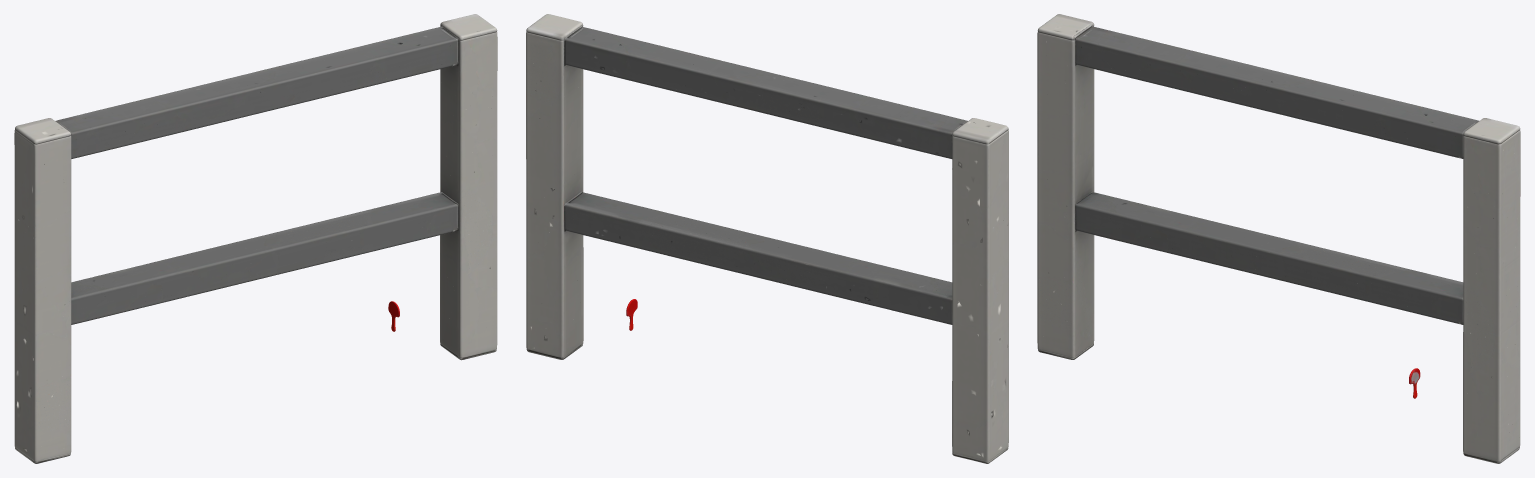
File: model-26-railing.glb
The picture shows the model from 3 angles, left to right: view 1: azimuth 30°, elevation 25°; view 2: azimuth 150°, elevation 25°; view 3: azimuth 330°, elevation 25°; orthographic projection.
Parts seen in each view (by area): view 1: node_0; view 2: node_0; view 3: node_0.
Part boxes in pixels (x1=…): node_0: x1=14, y1=14, x2=497, y2=463; node_0: x1=526, y1=14, x2=1008, y2=463; node_0: x1=1037, y1=14, x2=1520, y2=463.
Size of the model in its own units: 0.9997 by 0.6687 by 0.0796.
1 material, 1 textured.
